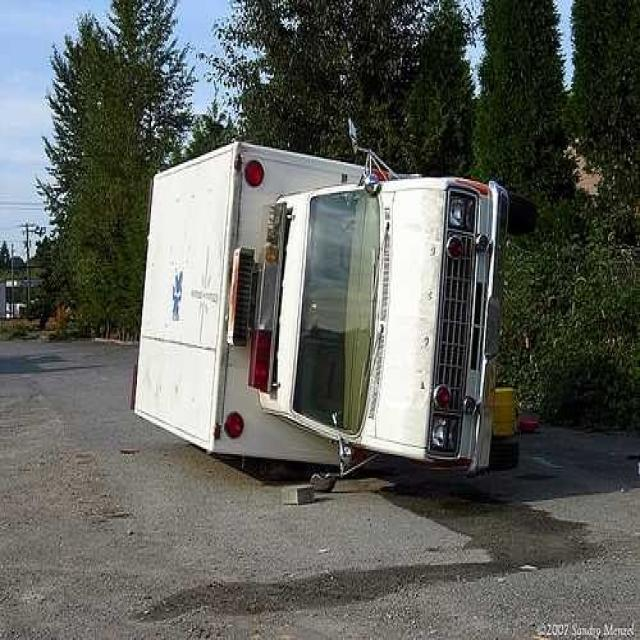ambulance: (121, 118, 528, 519)
